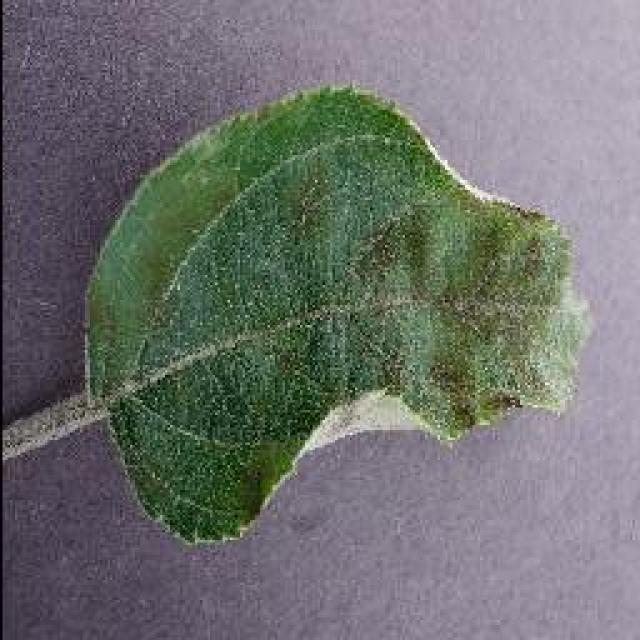apple scab disease: (80, 80, 592, 545)
